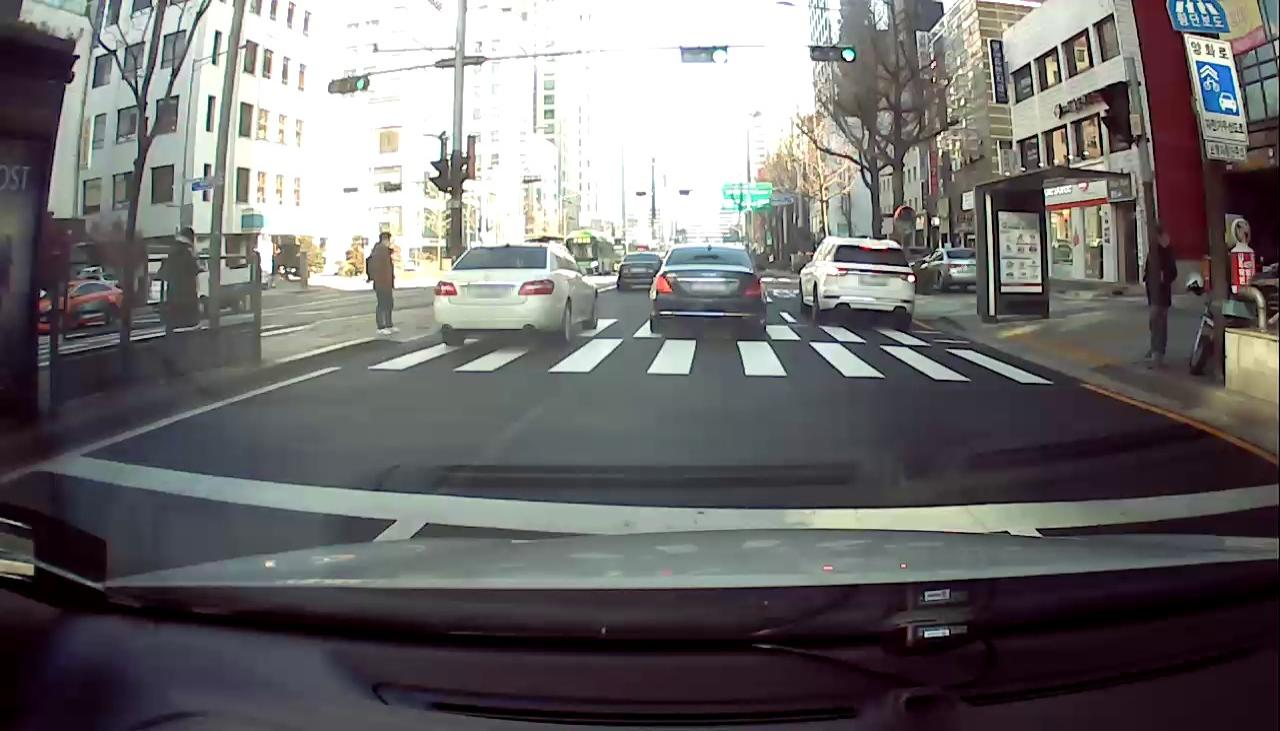Green Light: (709, 46, 728, 64), (840, 47, 857, 64)
